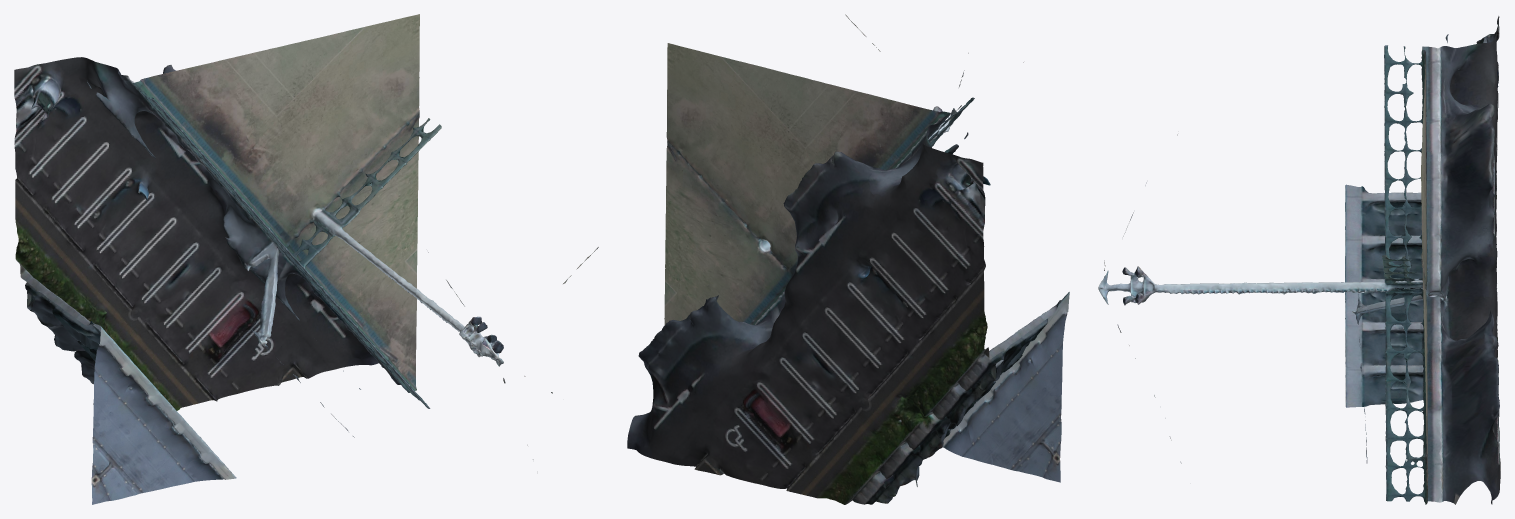
Rendered from Tile_+017_+017.fbx.
The picture shows the model from 3 angles, left to right: view 1: azimuth 30°, elevation 25°; view 2: azimuth 150°, elevation 25°; view 3: azimuth 270°, elevation 25°; orthographic projection. The views are drawn at different scales.
Parts seen in each view (by area): view 1: DefaultName; view 2: DefaultName; view 3: DefaultName.
Boxes of the visible parts, box(x1,y1,x2,y2) form: DefaultName: box(14, 14, 598, 504); DefaultName: box(627, 14, 1069, 504); DefaultName: box(1098, 16, 1500, 504).
Bounding box in the file's own units: 22.54 × 22.54 × 24.56.
